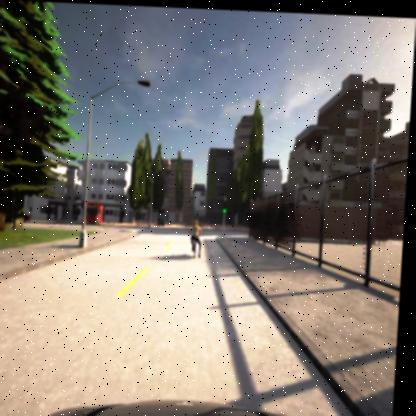bike: (190, 217, 205, 254)
